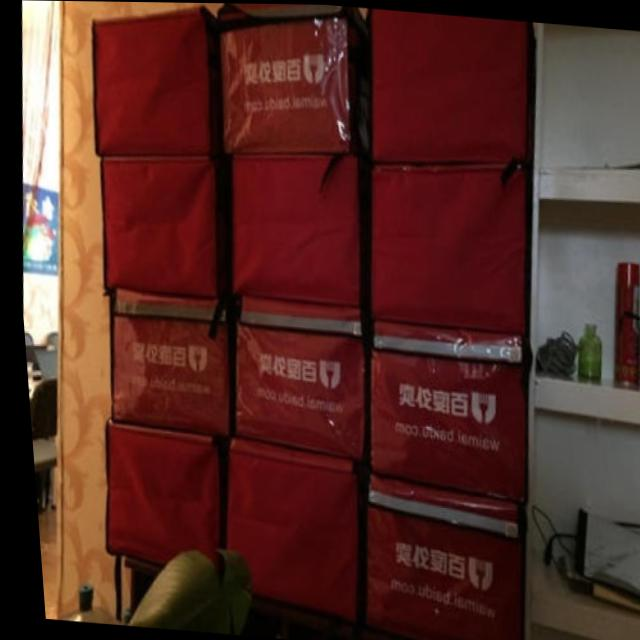box: (360, 318, 523, 501), (352, 469, 519, 640), (364, 161, 528, 334), (215, 436, 360, 622), (367, 7, 536, 162), (217, 3, 369, 164), (227, 295, 363, 459), (227, 156, 369, 308), (91, 4, 221, 158), (95, 416, 219, 571), (104, 289, 227, 438), (98, 154, 226, 297)
